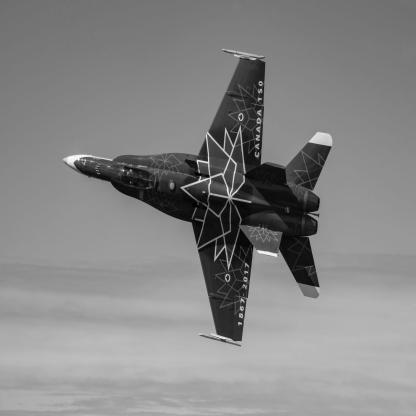F18: (63, 49, 333, 349)
